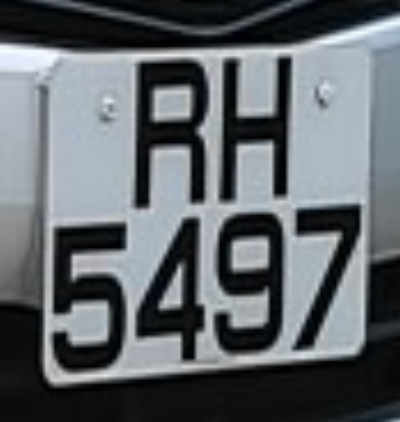4: (135, 205, 215, 372)
5: (44, 208, 136, 377)
7: (284, 194, 371, 358)
9: (207, 204, 298, 363)
H: (211, 43, 304, 207)
R: (120, 44, 219, 218)
